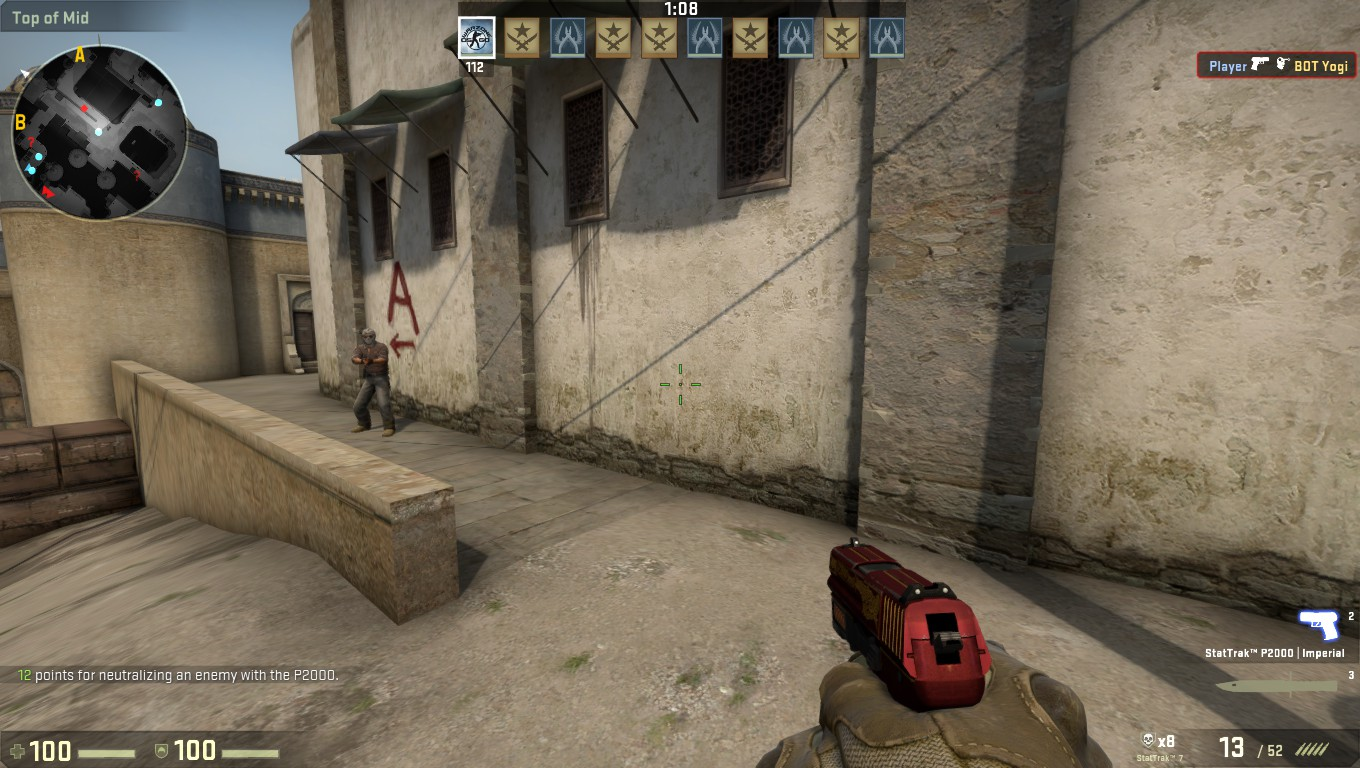t: (350, 325, 395, 433)
th: (356, 326, 379, 348)
